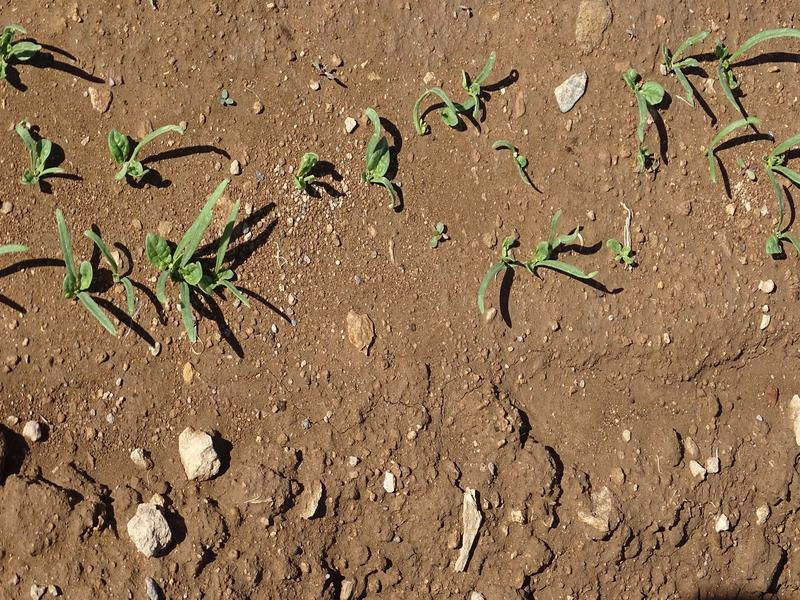Espinaca: (626, 49, 793, 256), (43, 206, 256, 341), (359, 59, 534, 200), (470, 220, 597, 323), (100, 123, 184, 182), (12, 124, 63, 185), (1, 25, 42, 77)
